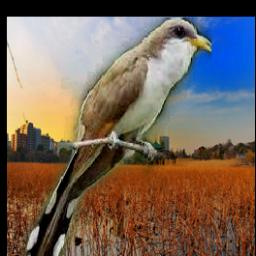Cuckoo: (21, 18, 212, 256)
